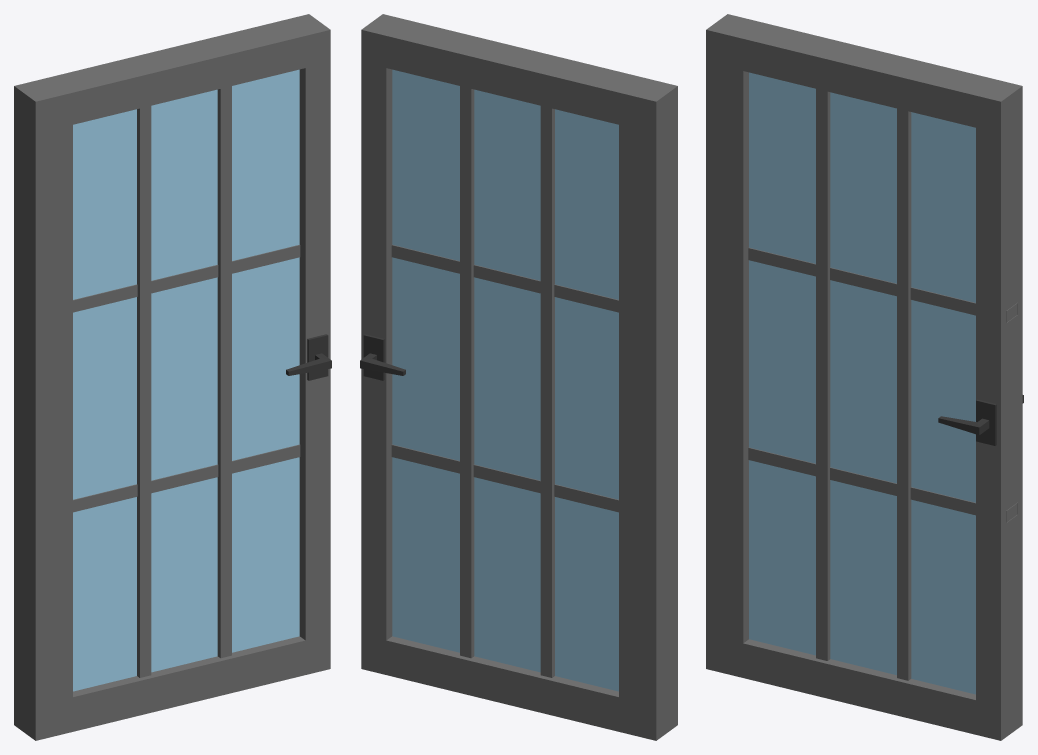
Rendered from door_011.glb.
3 views of the same model, side by side, from view 1: azimuth 30°, elevation 25°; view 2: azimuth 150°, elevation 25°; view 3: azimuth 330°, elevation 25° (orthographic).
Parts seen in each view (by area): view 1: door_011; view 2: door_011; view 3: door_011.
Boxes of the visible parts, <box> form: door_011: <box>14,14,331,740</box>; door_011: <box>360,14,677,740</box>; door_011: <box>706,14,1023,740</box>.
Size of the model in its own units: 1.1 by 2.27 by 0.2859.
1 material, 1 textured.
